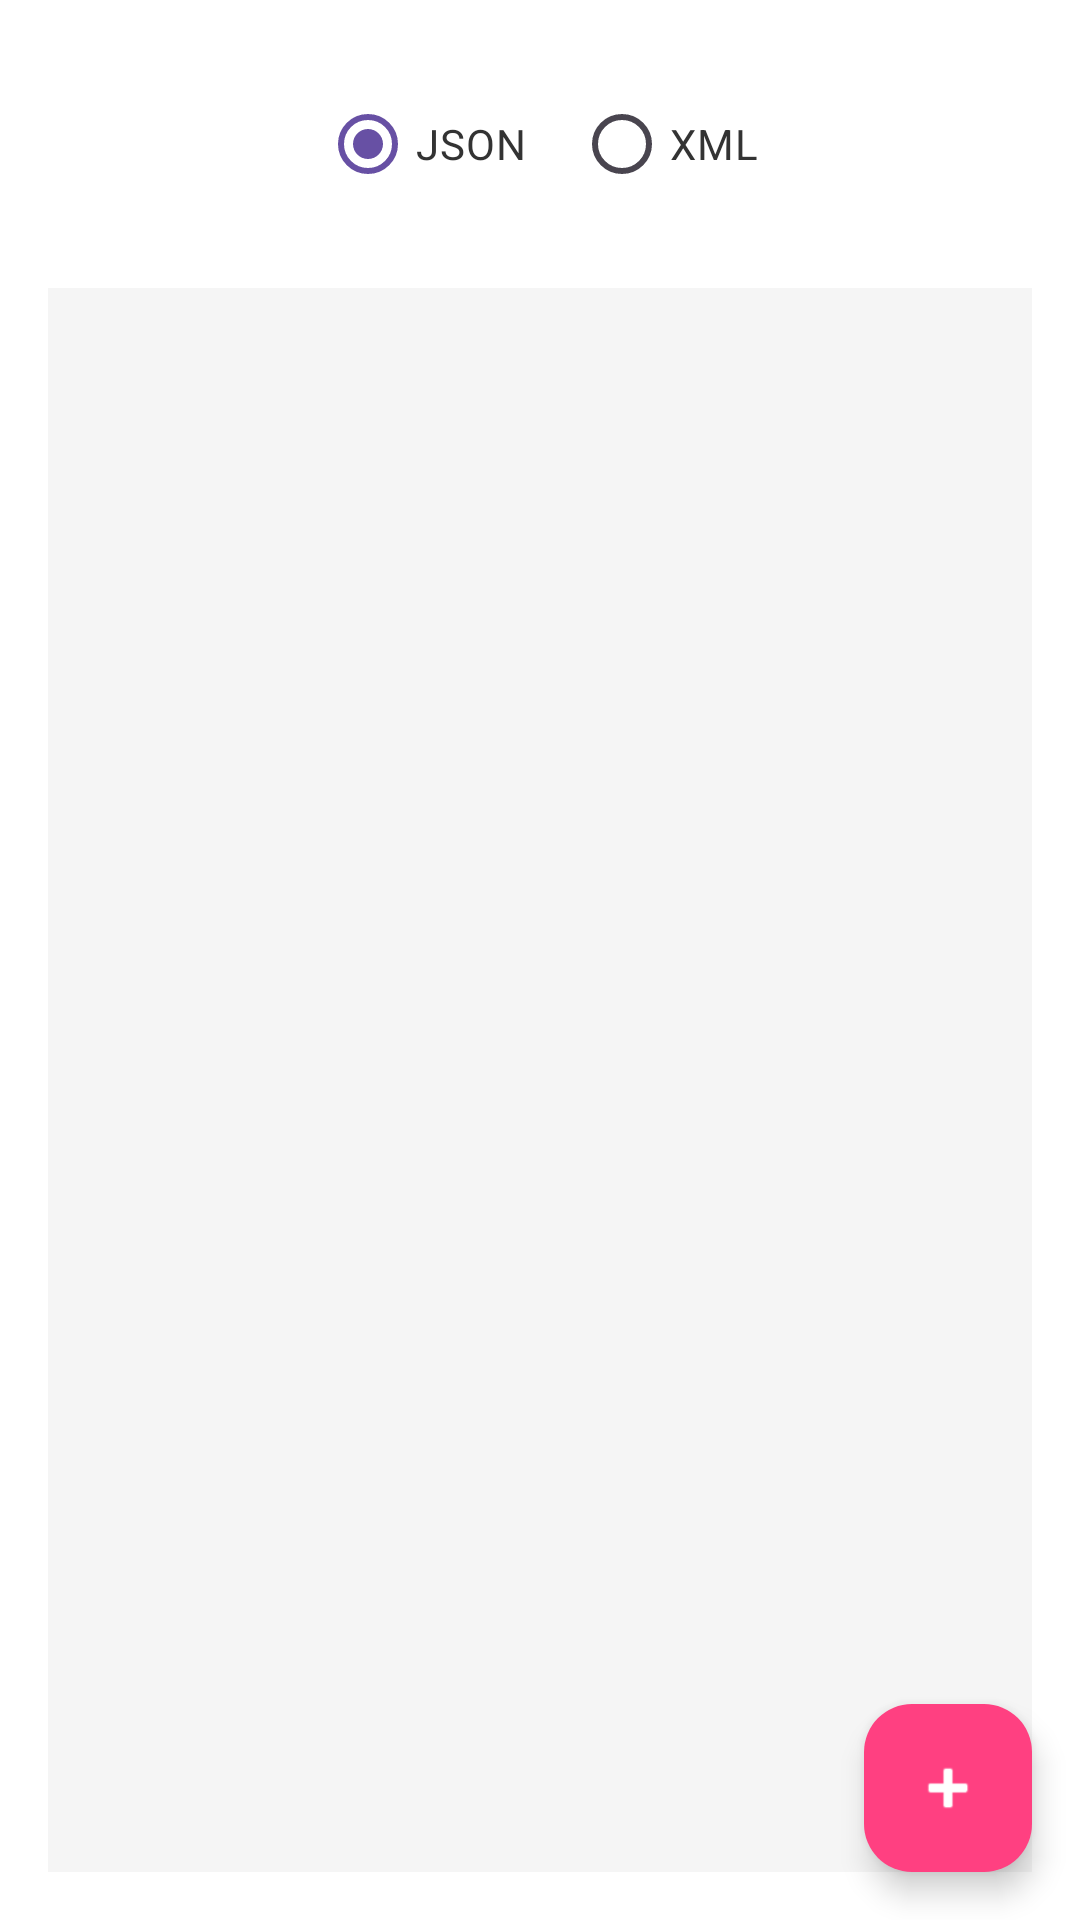

Locate icon controls on the screen. Image size 1080px x 1920px, boxes as (x1, y1, x2, y2).
Ajouter un compte: (864, 1704, 1032, 1872)
